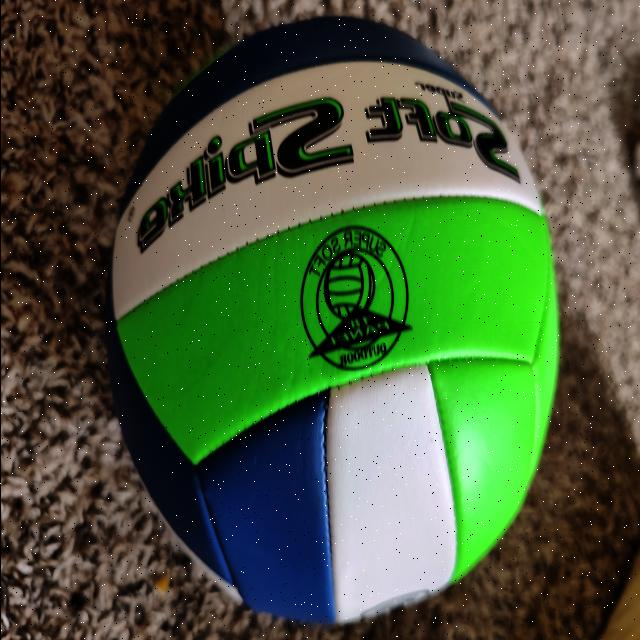ball: (106, 18, 554, 627)
